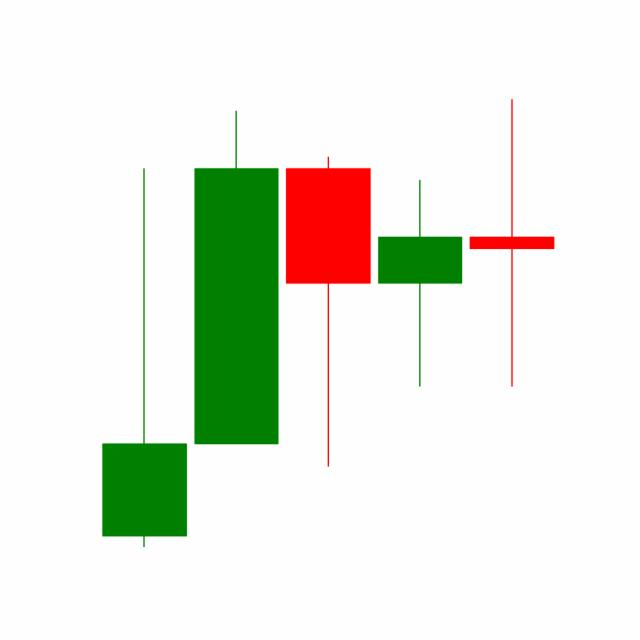Spinning Top: (464, 95, 558, 389)
